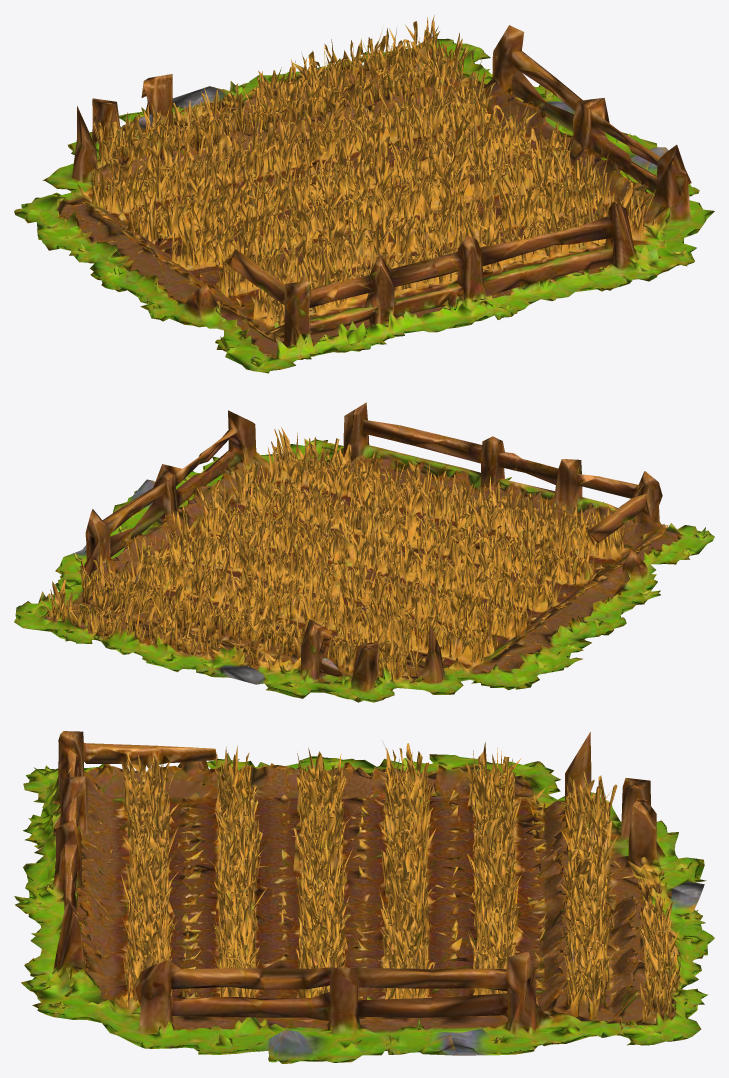
File: granja_e4.glb
3 views of the same model, one above another, from view 1: azimuth 30°, elevation 25°; view 2: azimuth 150°, elevation 25°; view 3: azimuth 270°, elevation 25° (orthographic). The views are drawn at different scales.
Visible parts, largest first — view 1: Mesh_0; view 2: Mesh_0; view 3: Mesh_0.
Part boxes in pixels (x1,y1,x2,y2): Mesh_0: (14,15,714,373); Mesh_0: (14,402,714,702); Mesh_0: (14,731,714,1063).
Bounding box in the file's own units: 0.466 × 0.0583 × 0.4455.
1 material, 1 textured.
